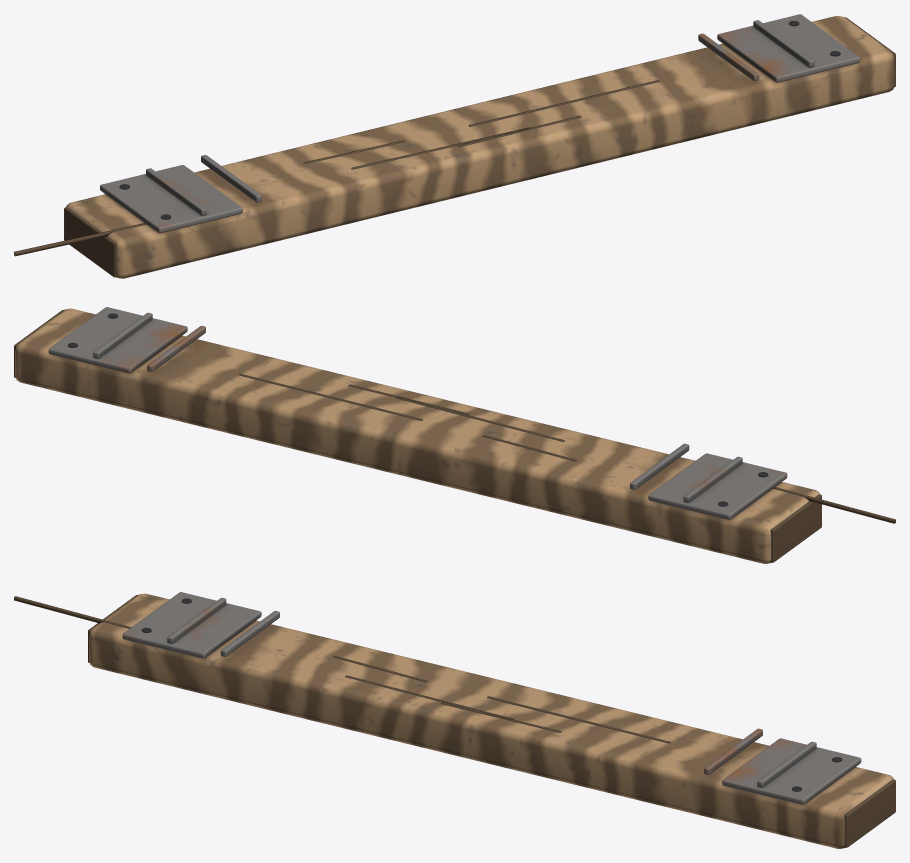
The model's file is plank.glb.
3 renders of one model, top to bottom at view 1: azimuth 30°, elevation 25°; view 2: azimuth 150°, elevation 25°; view 3: azimuth 330°, elevation 25°, orthographic. The views are drawn at different scales.
Visible parts, largest first — view 1: Plank; view 2: Plank; view 3: Plank.
Part boxes in pixels (x1,y1,x2,y2): Plank: (14,14,895,278); Plank: (14,307,895,563); Plank: (14,592,895,848).
Bounding box in the file's own units: 2.68 × 0.156 × 0.32.
Materials: 4 (4 with a texture image).
